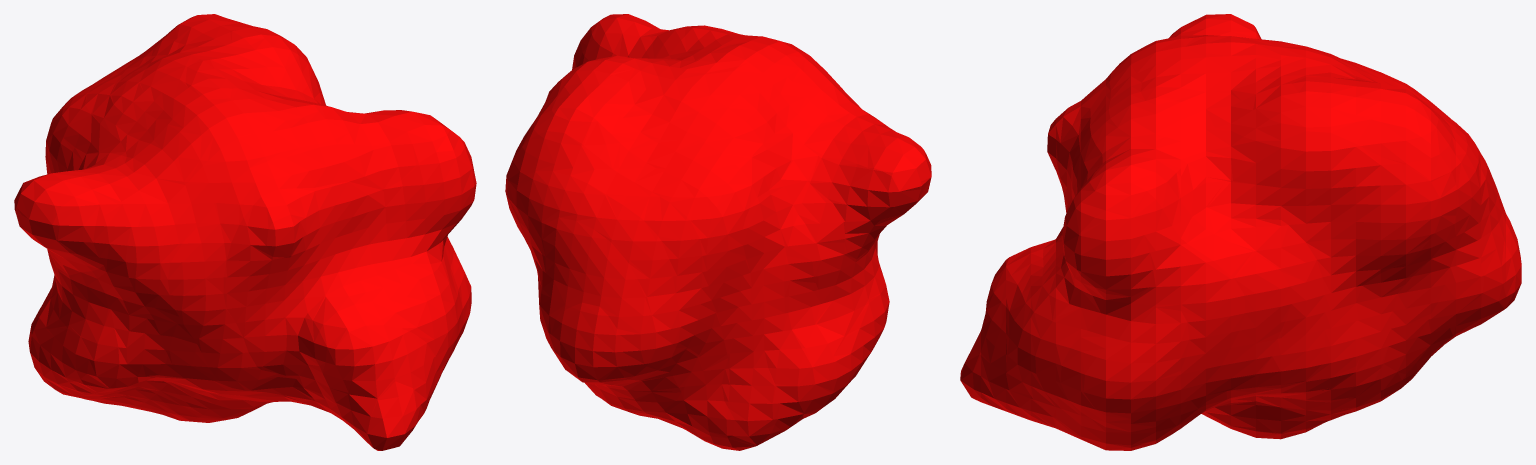
File: GTP_binding_protein_Rab_3D_coarse.dae
3 views of the same model, side by side, from view 1: azimuth 30°, elevation 25°; view 2: azimuth 150°, elevation 25°; view 3: azimuth 270°, elevation 25° (orthographic). The views are drawn at different scales.
Visible parts, largest first — view 1: GTP_binding_protein_Rab_3D; view 2: GTP_binding_protein_Rab_3D; view 3: GTP_binding_protein_Rab_3D.
Part boxes in pixels (x1,y1,x2,y2): GTP_binding_protein_Rab_3D: (14,14,476,450); GTP_binding_protein_Rab_3D: (505,14,931,450); GTP_binding_protein_Rab_3D: (960,14,1521,450).
Size of the model in its own units: 48.18 by 40.49 by 54.35.
